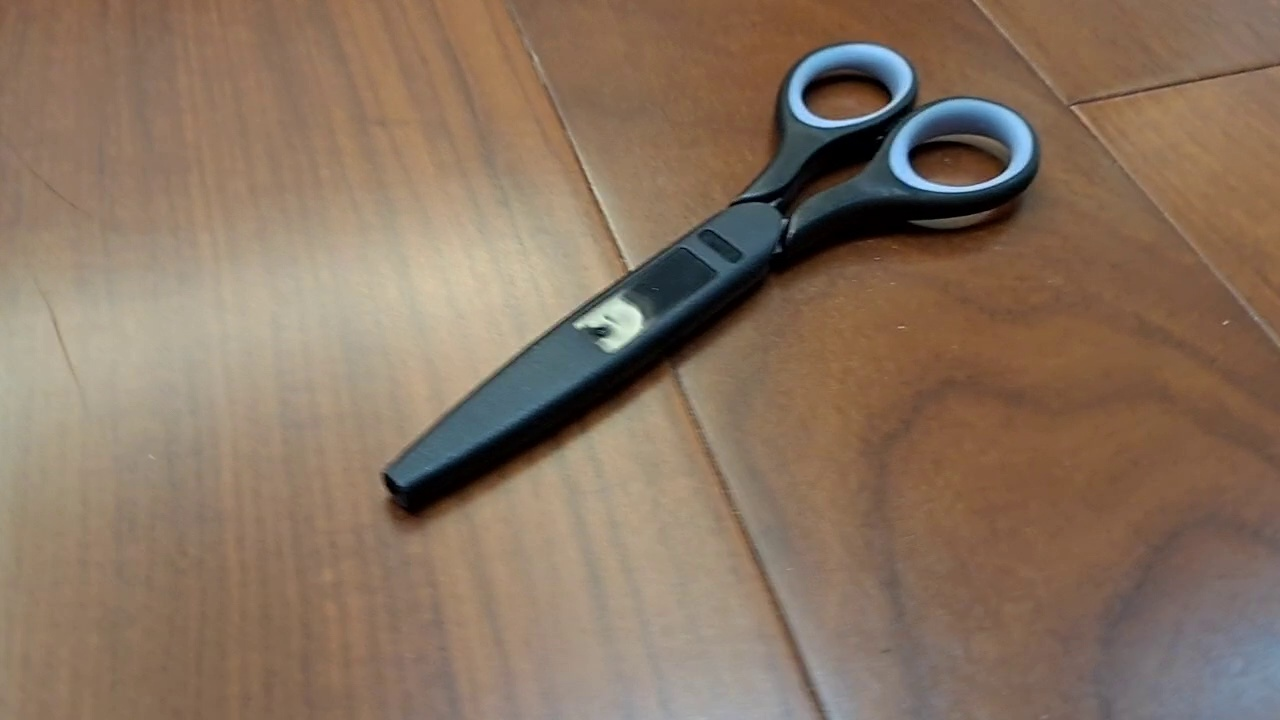scissors: (378, 39, 1041, 515)
